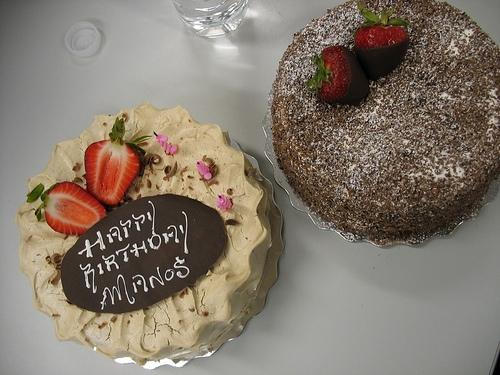strawberry: (84, 116, 152, 204), (35, 181, 107, 235), (352, 0, 414, 49), (306, 46, 351, 103)
